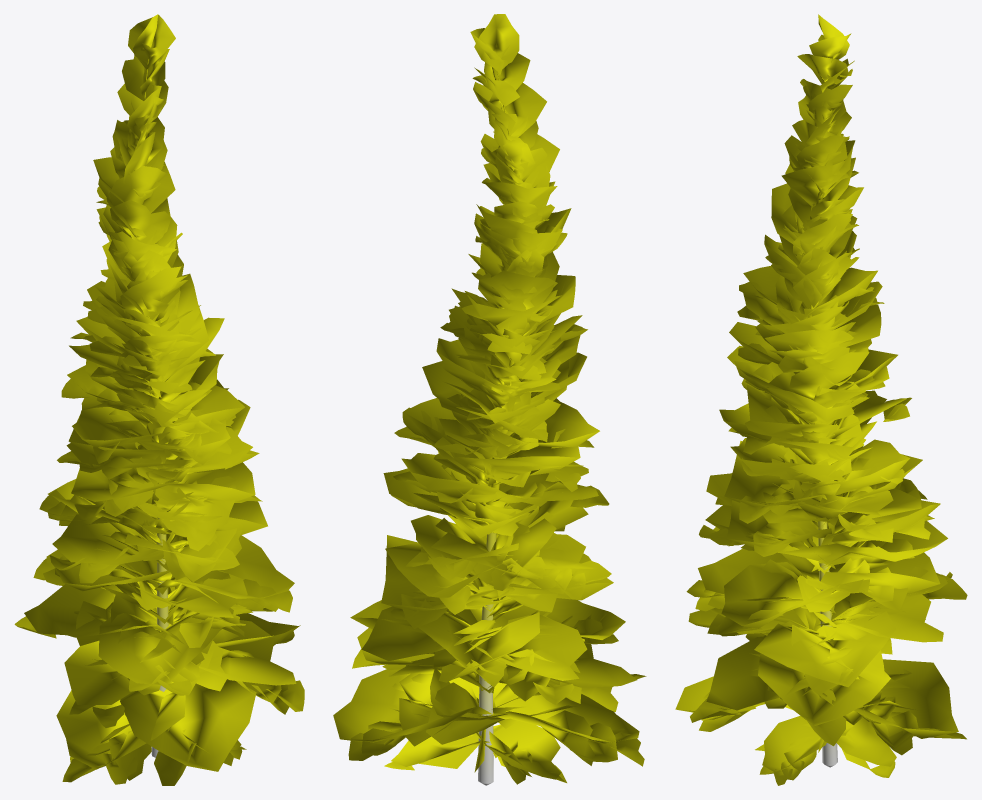
File: RedFir6.fbx
3 renders of one model, left to right at view 1: azimuth 30°, elevation 25°; view 2: azimuth 150°, elevation 25°; view 3: azimuth 270°, elevation 25°, orthographic. The views are drawn at different scales.
Visible parts, largest first — view 1: RedFir6_LOD0; view 2: RedFir6_LOD0; view 3: RedFir6_LOD0.
Part boxes in pixels (<box>): RedFir6_LOD0: <box>14,14,304,785</box>; RedFir6_LOD0: <box>333,14,646,785</box>; RedFir6_LOD0: <box>675,14,967,785</box>.
Size of what is drawn, in the model's own units: 385 by 1071 by 380.
